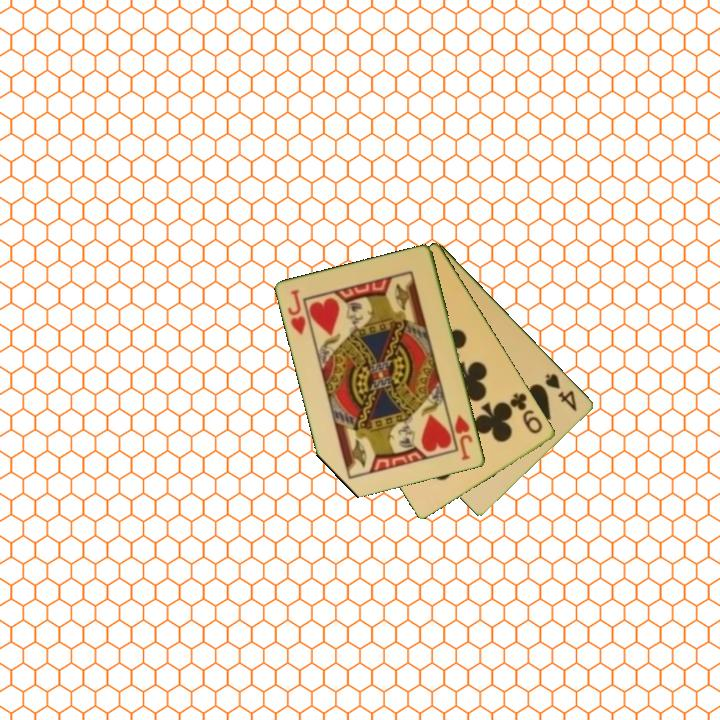4s: (542, 370, 580, 414)
9c: (506, 389, 546, 437)
Jh: (451, 411, 476, 464), (284, 286, 309, 337)
